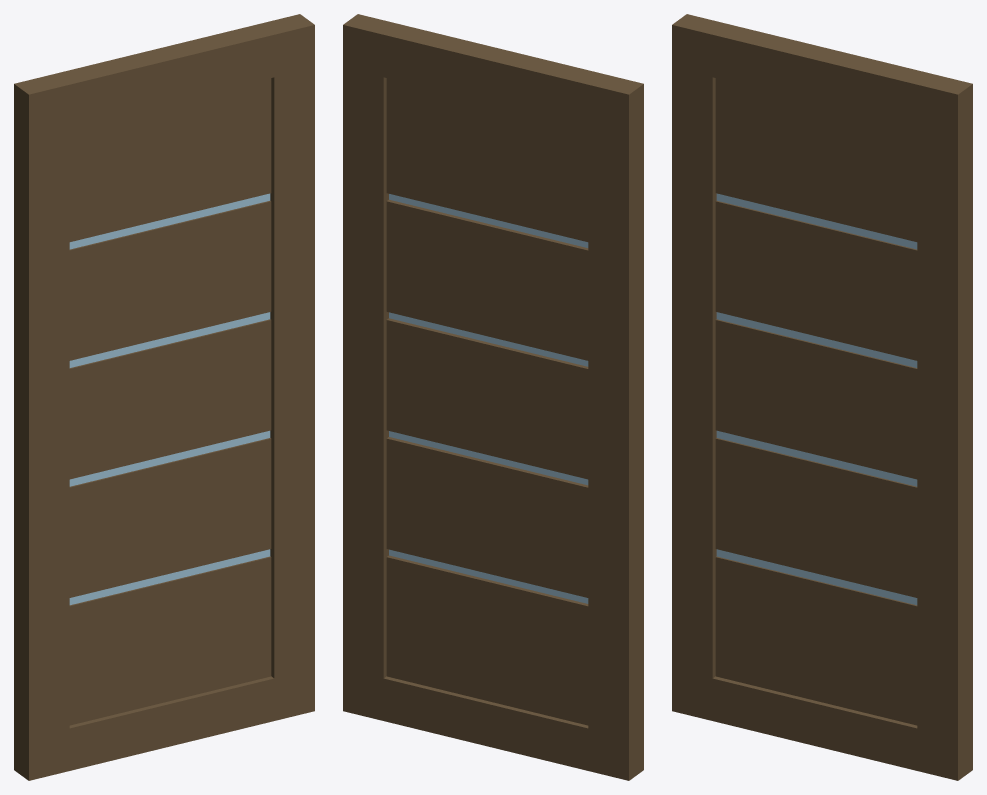
File: Door4_C3.fbx
3 renders of one model, left to right at view 1: azimuth 30°, elevation 25°; view 2: azimuth 150°, elevation 25°; view 3: azimuth 330°, elevation 25°, orthographic.
Parts seen in each view (by area): view 1: Door4_C3; view 2: Door4_C3; view 3: Door4_C3.
Boxes of the visible parts, box(x1,y1,x2,y2) form: Door4_C3: box(14, 14, 314, 780); Door4_C3: box(343, 14, 643, 780); Door4_C3: box(672, 14, 972, 780).
Bounding box in the file's own units: 0.89 × 2.04 × 0.08.
